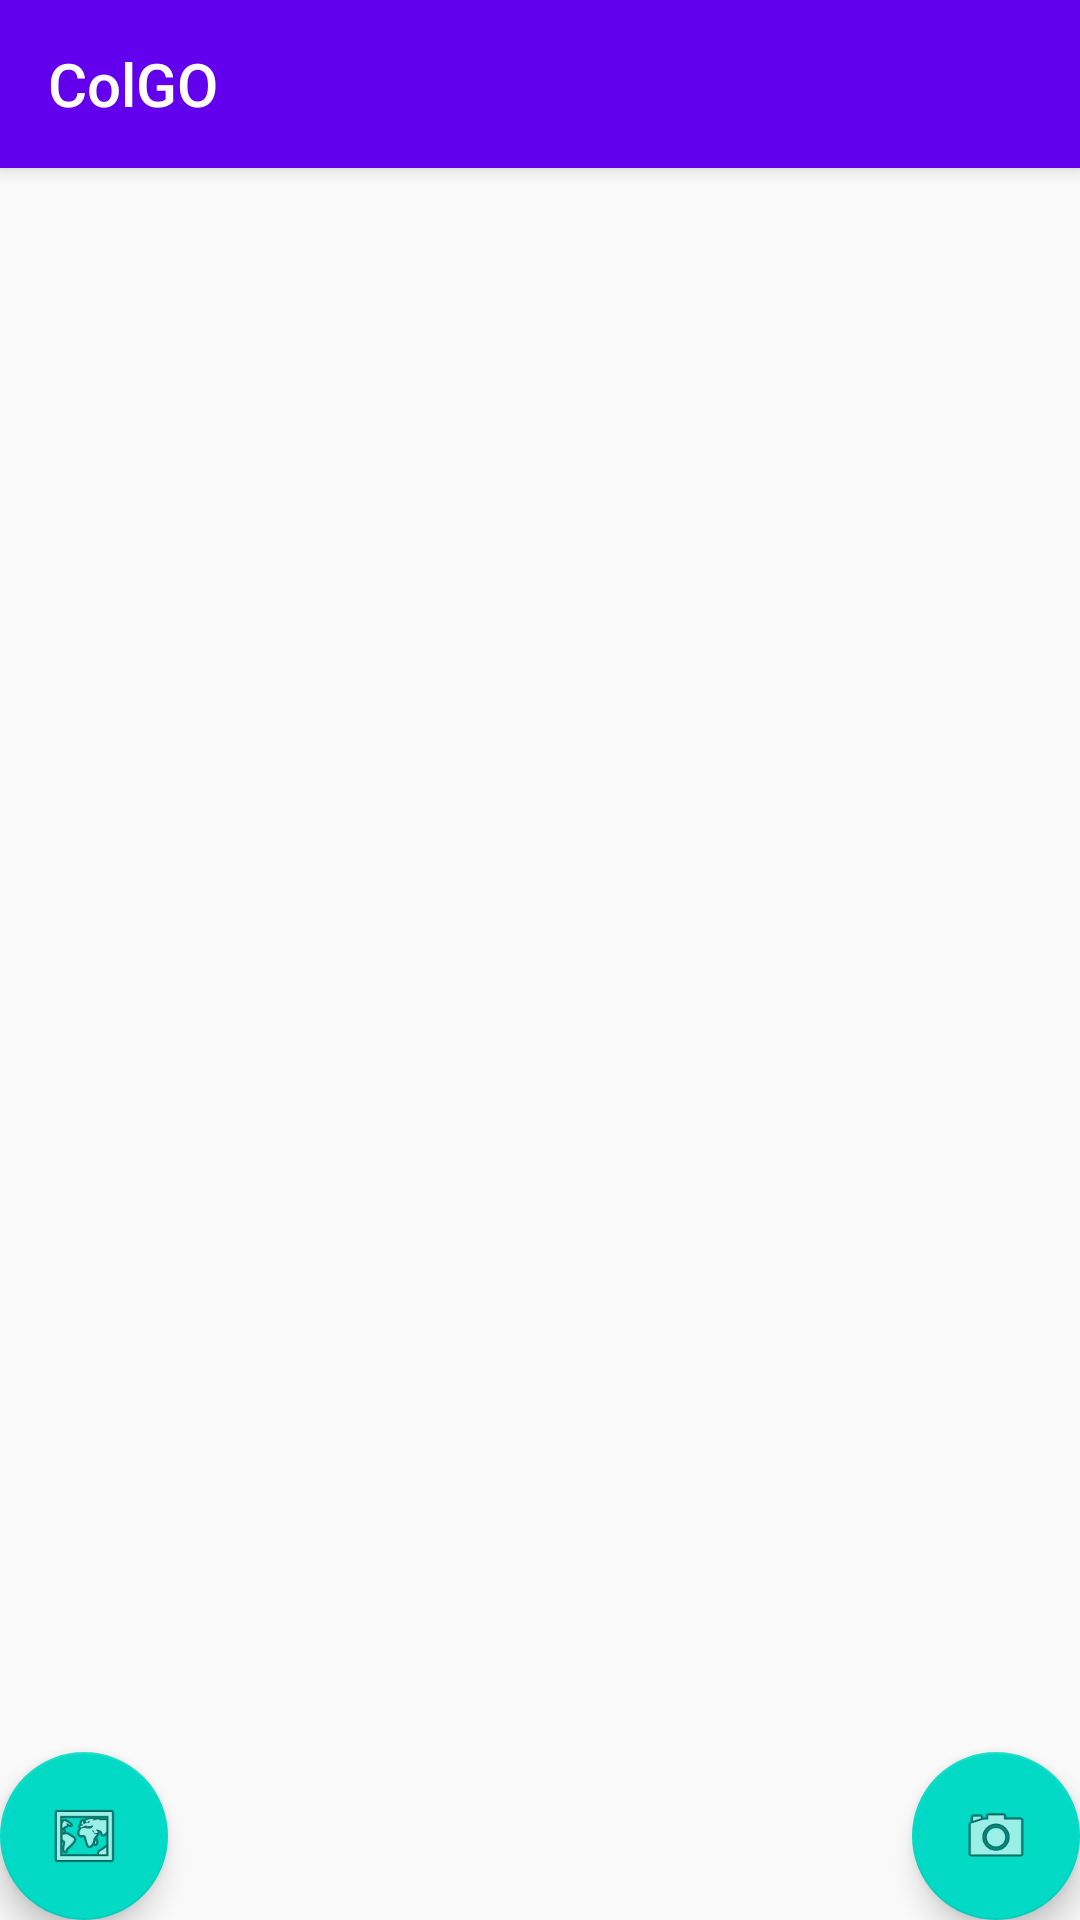

Point at icon controls on the screen. Image size 1080x1920, points as [x,y].
camera: [996,1836]
mapmode: [84,1836]
